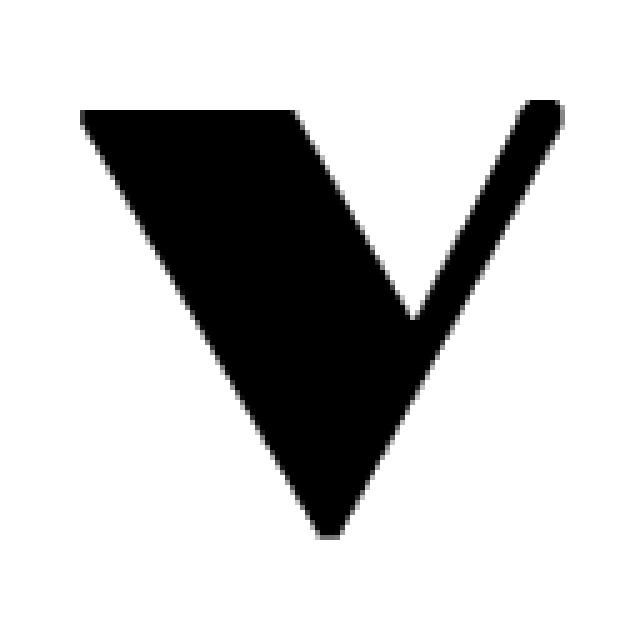V: (70, 85, 570, 540)
